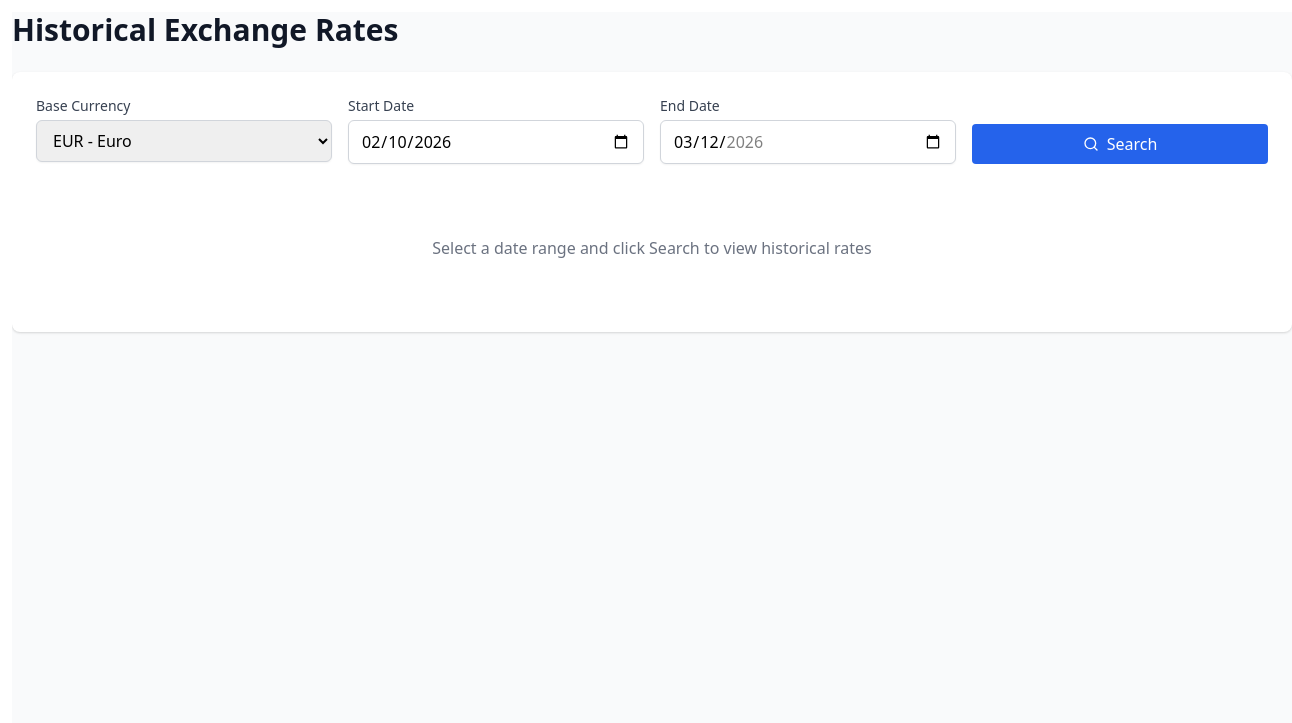
Test: HistoryPage › allows changing base currency
Step 1. Select "USD - United States Dollar" in the dropdown labelled "Base Currency" → {"x": 184, "y": 141}, box [36, 120, 332, 162]
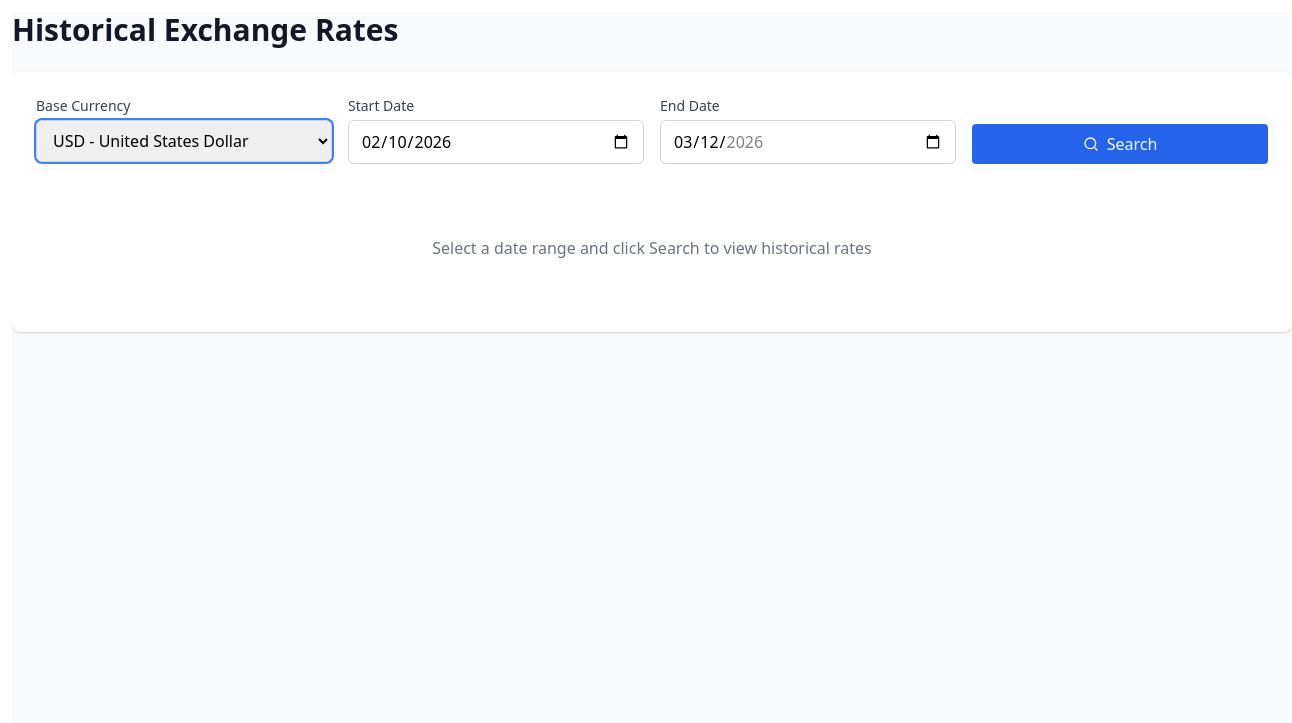
Step 2. Click the button "Search" → {"x": 1120, "y": 144}, box [972, 124, 1268, 164]
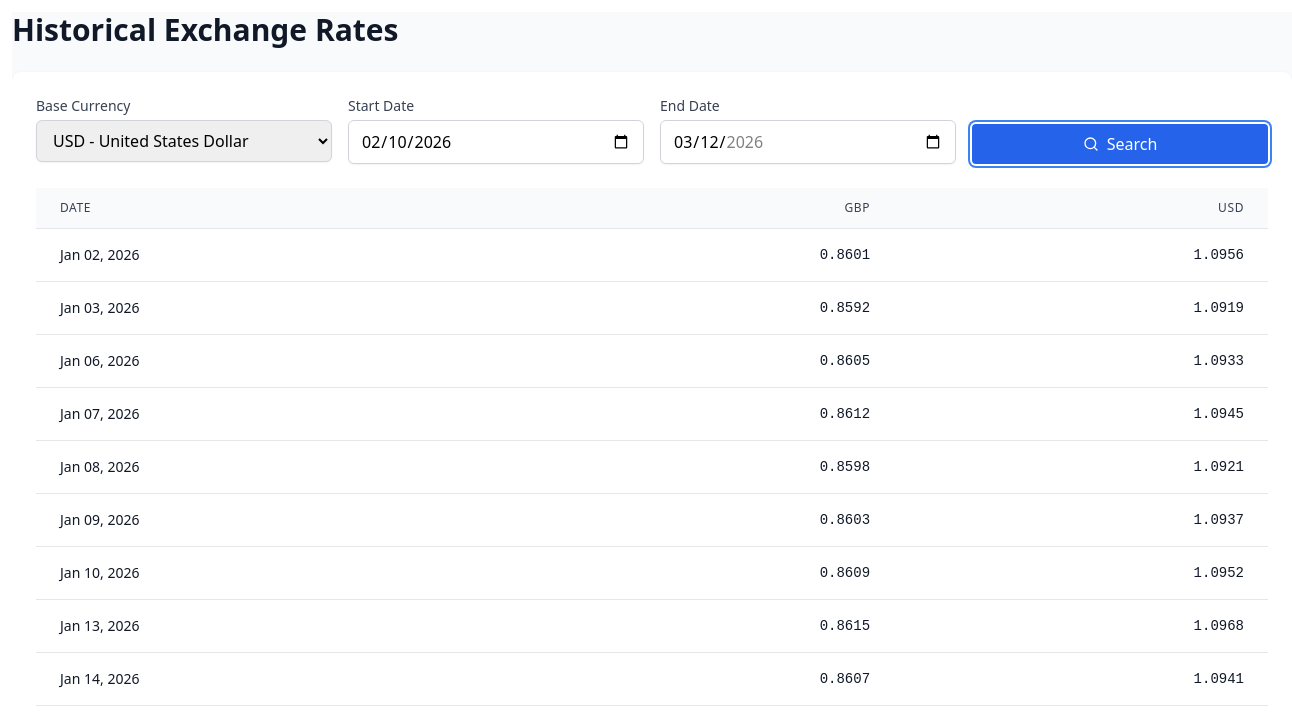
expect the text "Jan 02, 2026" is shown: met, box [36, 228, 520, 282]
